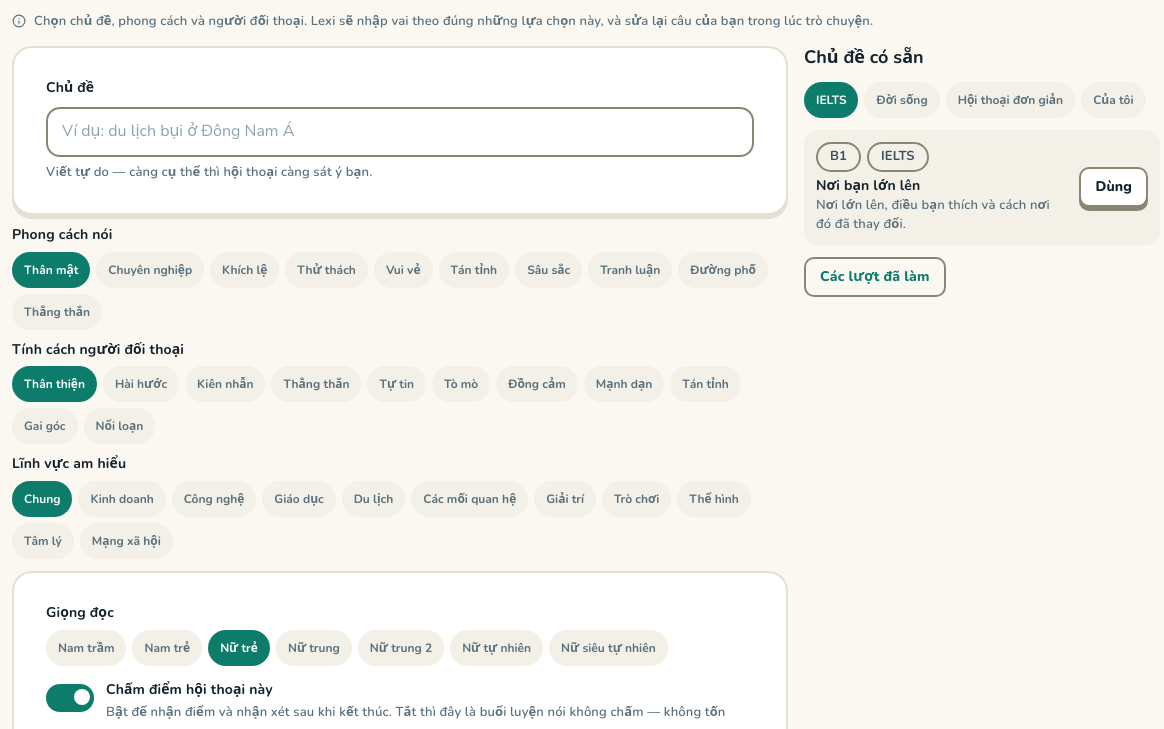
Test: CustomSpeakingPage — form beside the template list › "Dùng" fills all six fields and does NOT start or charge anything
This screenshot has width=1164, height=729.
Click the button "Dùng".
click(1114, 187)  # box [1079,167,1148,207]
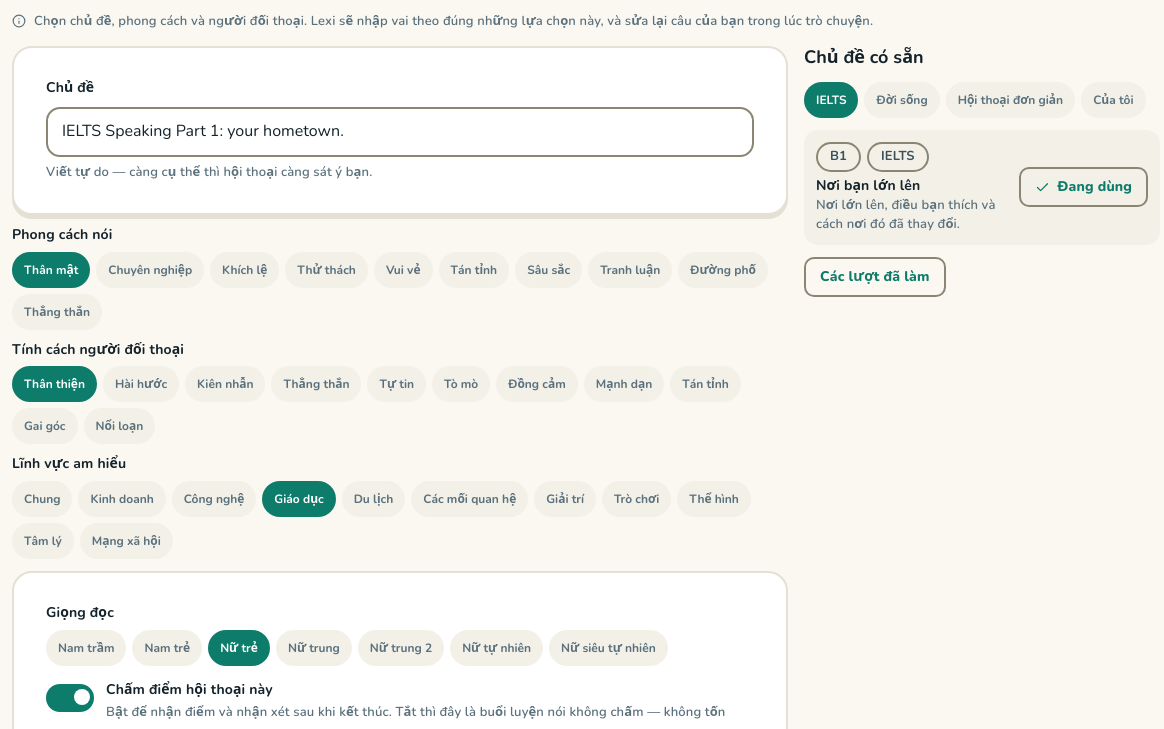
Check: the field with placeholder "Ví dụ: du lịch bụi ở Đông Nam Á" holds "IELTS Speaking Part 1: your hometown.", box [46,107,754,157]
Check: the button "Đang dùng" is disabled, box [1018,167,1148,207]
